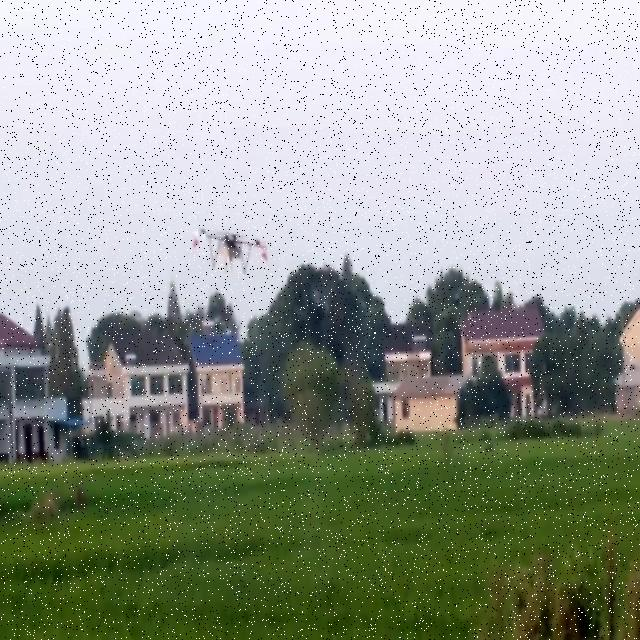UAV: (193, 228, 268, 274)
